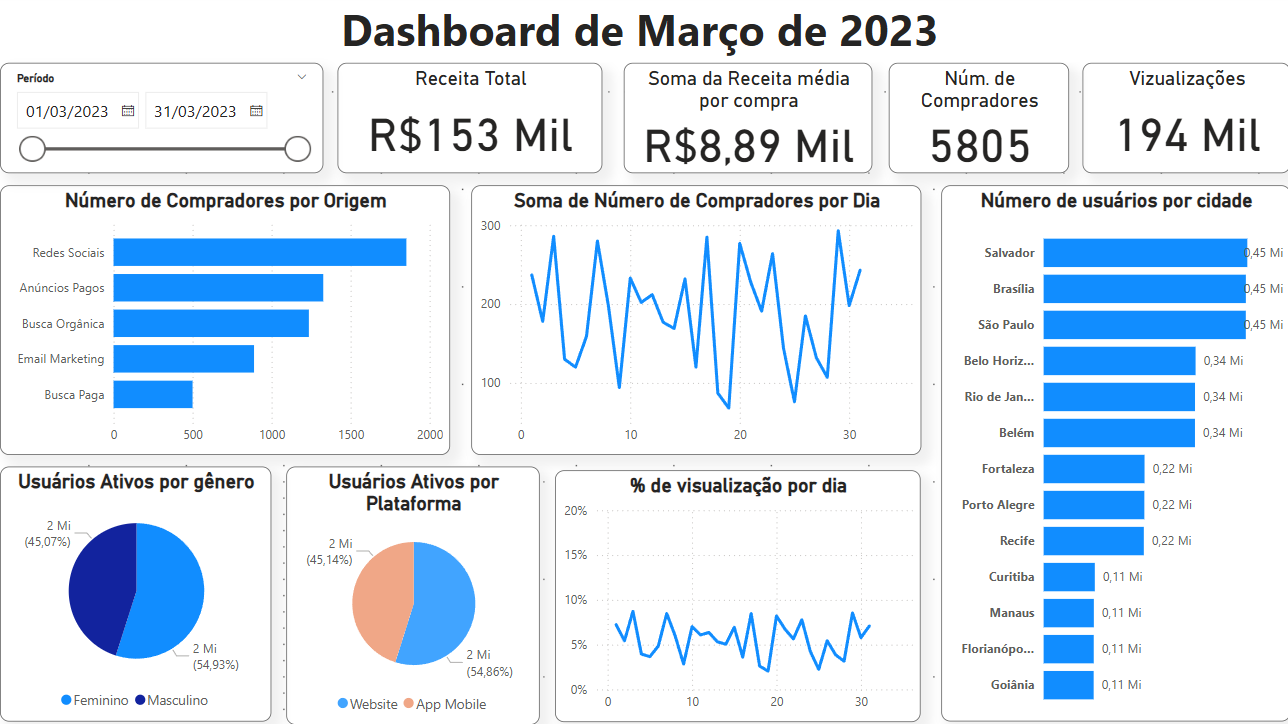

The page's visual inventory and layout, read from the dashboard file:
{"tool":"powerbi","page":{"name":"Página 1","canvas":[1280,720],"ordinal":0},"visuals":[{"type":"card","title":"Receita Total","fields":{"Values":["Sum(Planilha1.Receita Total)"]},"box":[342.4,67.2,260.8,108.8],"z":0},{"type":"card","title":"Soma da Receita média por compra","fields":{"Values":["Sum(Planilha1.Receita Média por Compra)"]},"box":[624,67.2,244.8,108.8],"z":1000},{"type":"card","title":"Vizualizações","fields":{"Values":["Sum(Planilha1.Visualizações na Página)"]},"box":[1075.2,67.2,204.8,108.8],"z":2000},{"type":"card","title":"Núm. de Compradores","fields":{"Values":["Sum(Planilha1.Número de Compradores)"]},"box":[884.8,67.2,177.6,108.8],"z":3000},{"type":"barChart","title":"Número de Compradores por Origem","fields":{"Category":["Planilha1.Origem"],"Y":["Sum(Planilha1.Número de Compradores)"]},"box":[9.6,188.8,443.2,265.6],"z":4000},{"type":"lineChart","fields":{"Category":["Planilha1.Data.Variation.Hierarquia de datas.Dia"],"Y":["Sum(Planilha1.Número de Compradores)"]},"box":[473.6,188.8,443.2,265.6],"z":5000},{"type":"textbox","box":[0,0,1280,67.2],"z":6000},{"type":"slicer","fields":{"Values":["Planilha1.Data"]},"box":[9.6,67.2,318.4,108.8],"z":7000},{"type":"pieChart","title":"Usuários Ativos por Plataforma","fields":{"Category":["Planilha1.Plataforma Utilizada"],"Y":["Sum(Planilha1.Usuários Ativos)"]},"box":[291.2,465.6,249.6,254.4],"z":8000},{"type":"lineChart","title":"% de visualização por dia","fields":{"Category":["Planilha1.Data.Variation.Hierarquia de datas.Dia"],"Y":["Sum(Planilha1.% de visualização)"]},"box":[556.8,468.8,360,248],"z":9000},{"type":"pieChart","title":"Usuários Ativos por gênero","fields":{"Category":["Planilha1.Gênero"],"Y":["Sum(Planilha1.Usuários Ativos)"]},"box":[9.6,465.6,267.2,251.2],"z":10000},{"type":"barChart","title":"Número de usuários por cidade","fields":{"Category":["Planilha1.Cidade"],"Y":["Sum(Planilha1.Usuários Total)"]},"box":[936,188.8,344,528],"z":11000}]}

Visuals, with their boxes in screenshot pixels (x1, y1, x2, y2), scaled from the page's 1280x720 canvas onto the 1288x724 screenshot:
"Receita Total" card: [x1=345, y1=68, x2=607, y2=177]
"Soma da Receita média por compra" card: [x1=628, y1=68, x2=874, y2=177]
"Vizualizações" card: [x1=1082, y1=68, x2=1287, y2=177]
"Núm. de Compradores" card: [x1=890, y1=68, x2=1069, y2=177]
"Número de Compradores por Origem" barChart: [x1=10, y1=190, x2=456, y2=457]
lineChart - Planilha1.Data.Variation.Hierarquia de datas.Dia x Sum(Planilha1.Número de Compradores): [x1=477, y1=190, x2=923, y2=457]
textbox: [x1=0, y1=0, x2=1287, y2=68]
slicer - Planilha1.Data: [x1=10, y1=68, x2=330, y2=177]
"Usuários Ativos por Plataforma" pieChart: [x1=293, y1=468, x2=544, y2=723]
"% de visualização por dia" lineChart: [x1=560, y1=471, x2=923, y2=721]
"Usuários Ativos por gênero" pieChart: [x1=10, y1=468, x2=279, y2=721]
"Número de usuários por cidade" barChart: [x1=942, y1=190, x2=1287, y2=721]
